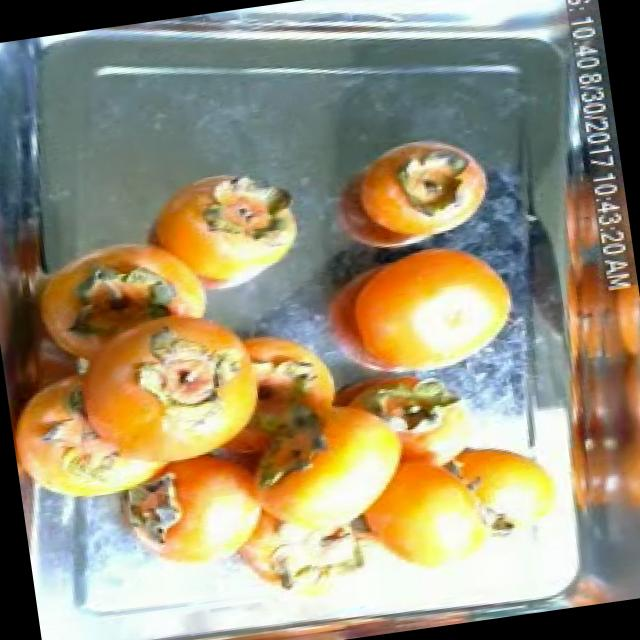Fruit: (298, 225, 542, 403), (111, 148, 324, 322), (318, 120, 506, 256)
